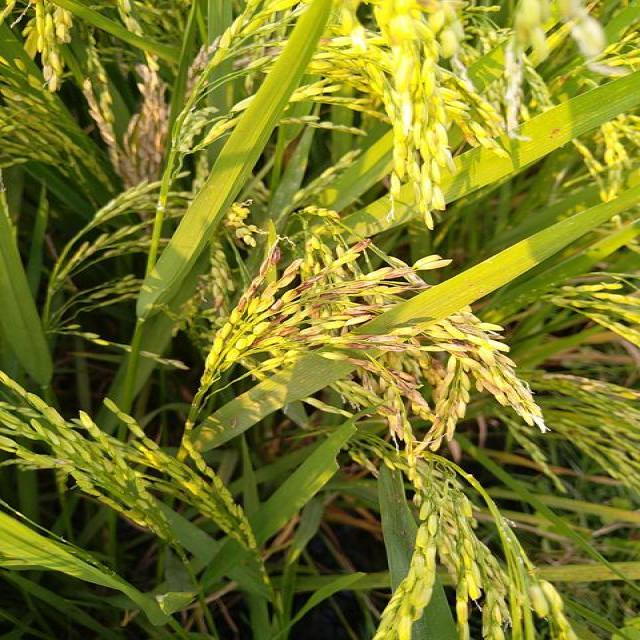Panicle Blight: (83, 64, 171, 185), (236, 247, 281, 313), (185, 36, 221, 96), (268, 273, 324, 310), (543, 372, 620, 393), (376, 405, 405, 451), (320, 281, 379, 299), (456, 120, 483, 148), (393, 273, 432, 291), (340, 304, 387, 318), (277, 259, 303, 283), (344, 343, 405, 352), (493, 351, 515, 375), (416, 0, 443, 19), (404, 389, 429, 408), (381, 267, 416, 280), (389, 370, 420, 384), (231, 53, 253, 72), (344, 240, 371, 255), (459, 324, 487, 338), (361, 370, 375, 393), (353, 334, 399, 341), (211, 329, 231, 345), (452, 339, 472, 354), (307, 302, 324, 319), (276, 326, 301, 337), (393, 376, 408, 394), (481, 381, 499, 396), (408, 444, 423, 461), (429, 415, 443, 433), (347, 356, 372, 366), (295, 331, 320, 341), (432, 360, 445, 378), (411, 492, 424, 509), (264, 46, 284, 57), (271, 314, 288, 326), (213, 294, 224, 310), (319, 36, 332, 49), (249, 338, 265, 348), (448, 401, 457, 415), (449, 441, 457, 456), (388, 37, 397, 50)
